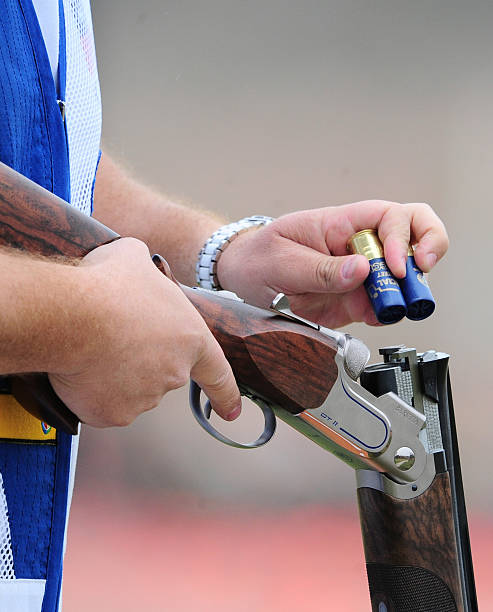shotgun: (61, 187, 482, 612)
